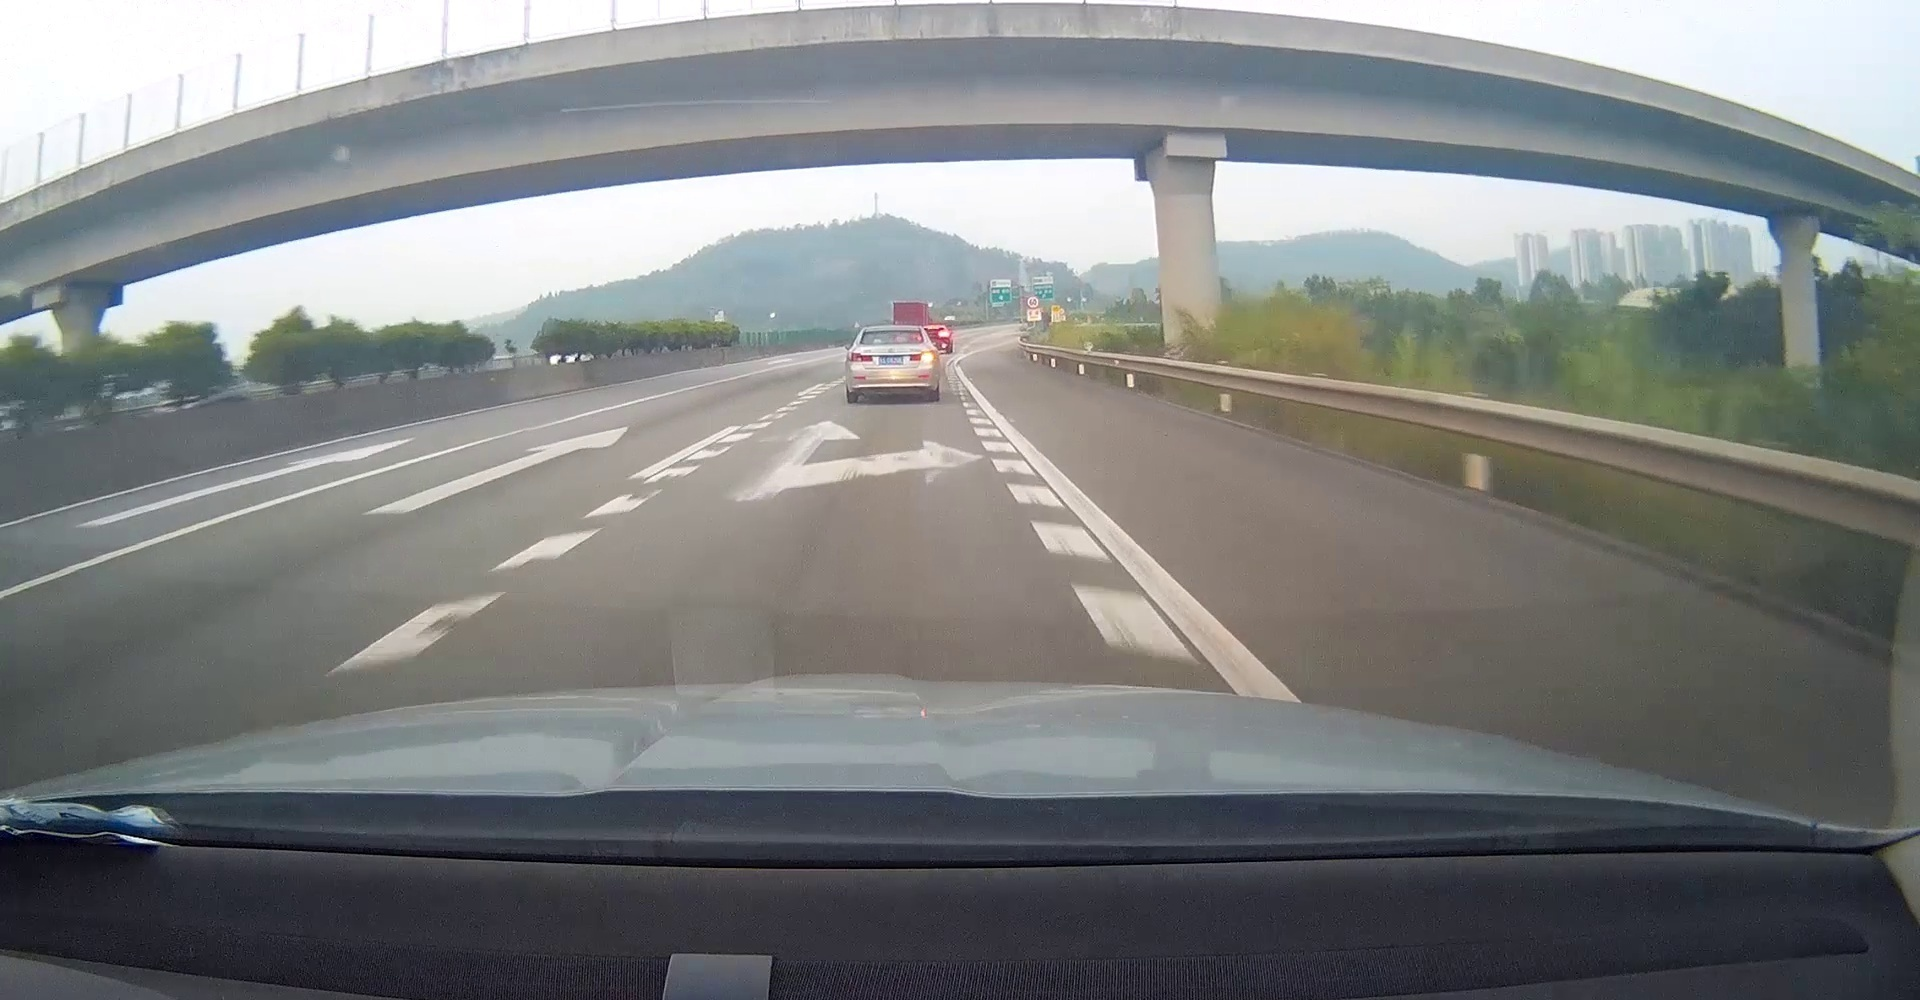L_light: (851, 352, 872, 362)
R_light: (910, 352, 935, 362)
T_light: (885, 339, 899, 343)
day-right: (844, 325, 938, 404)
